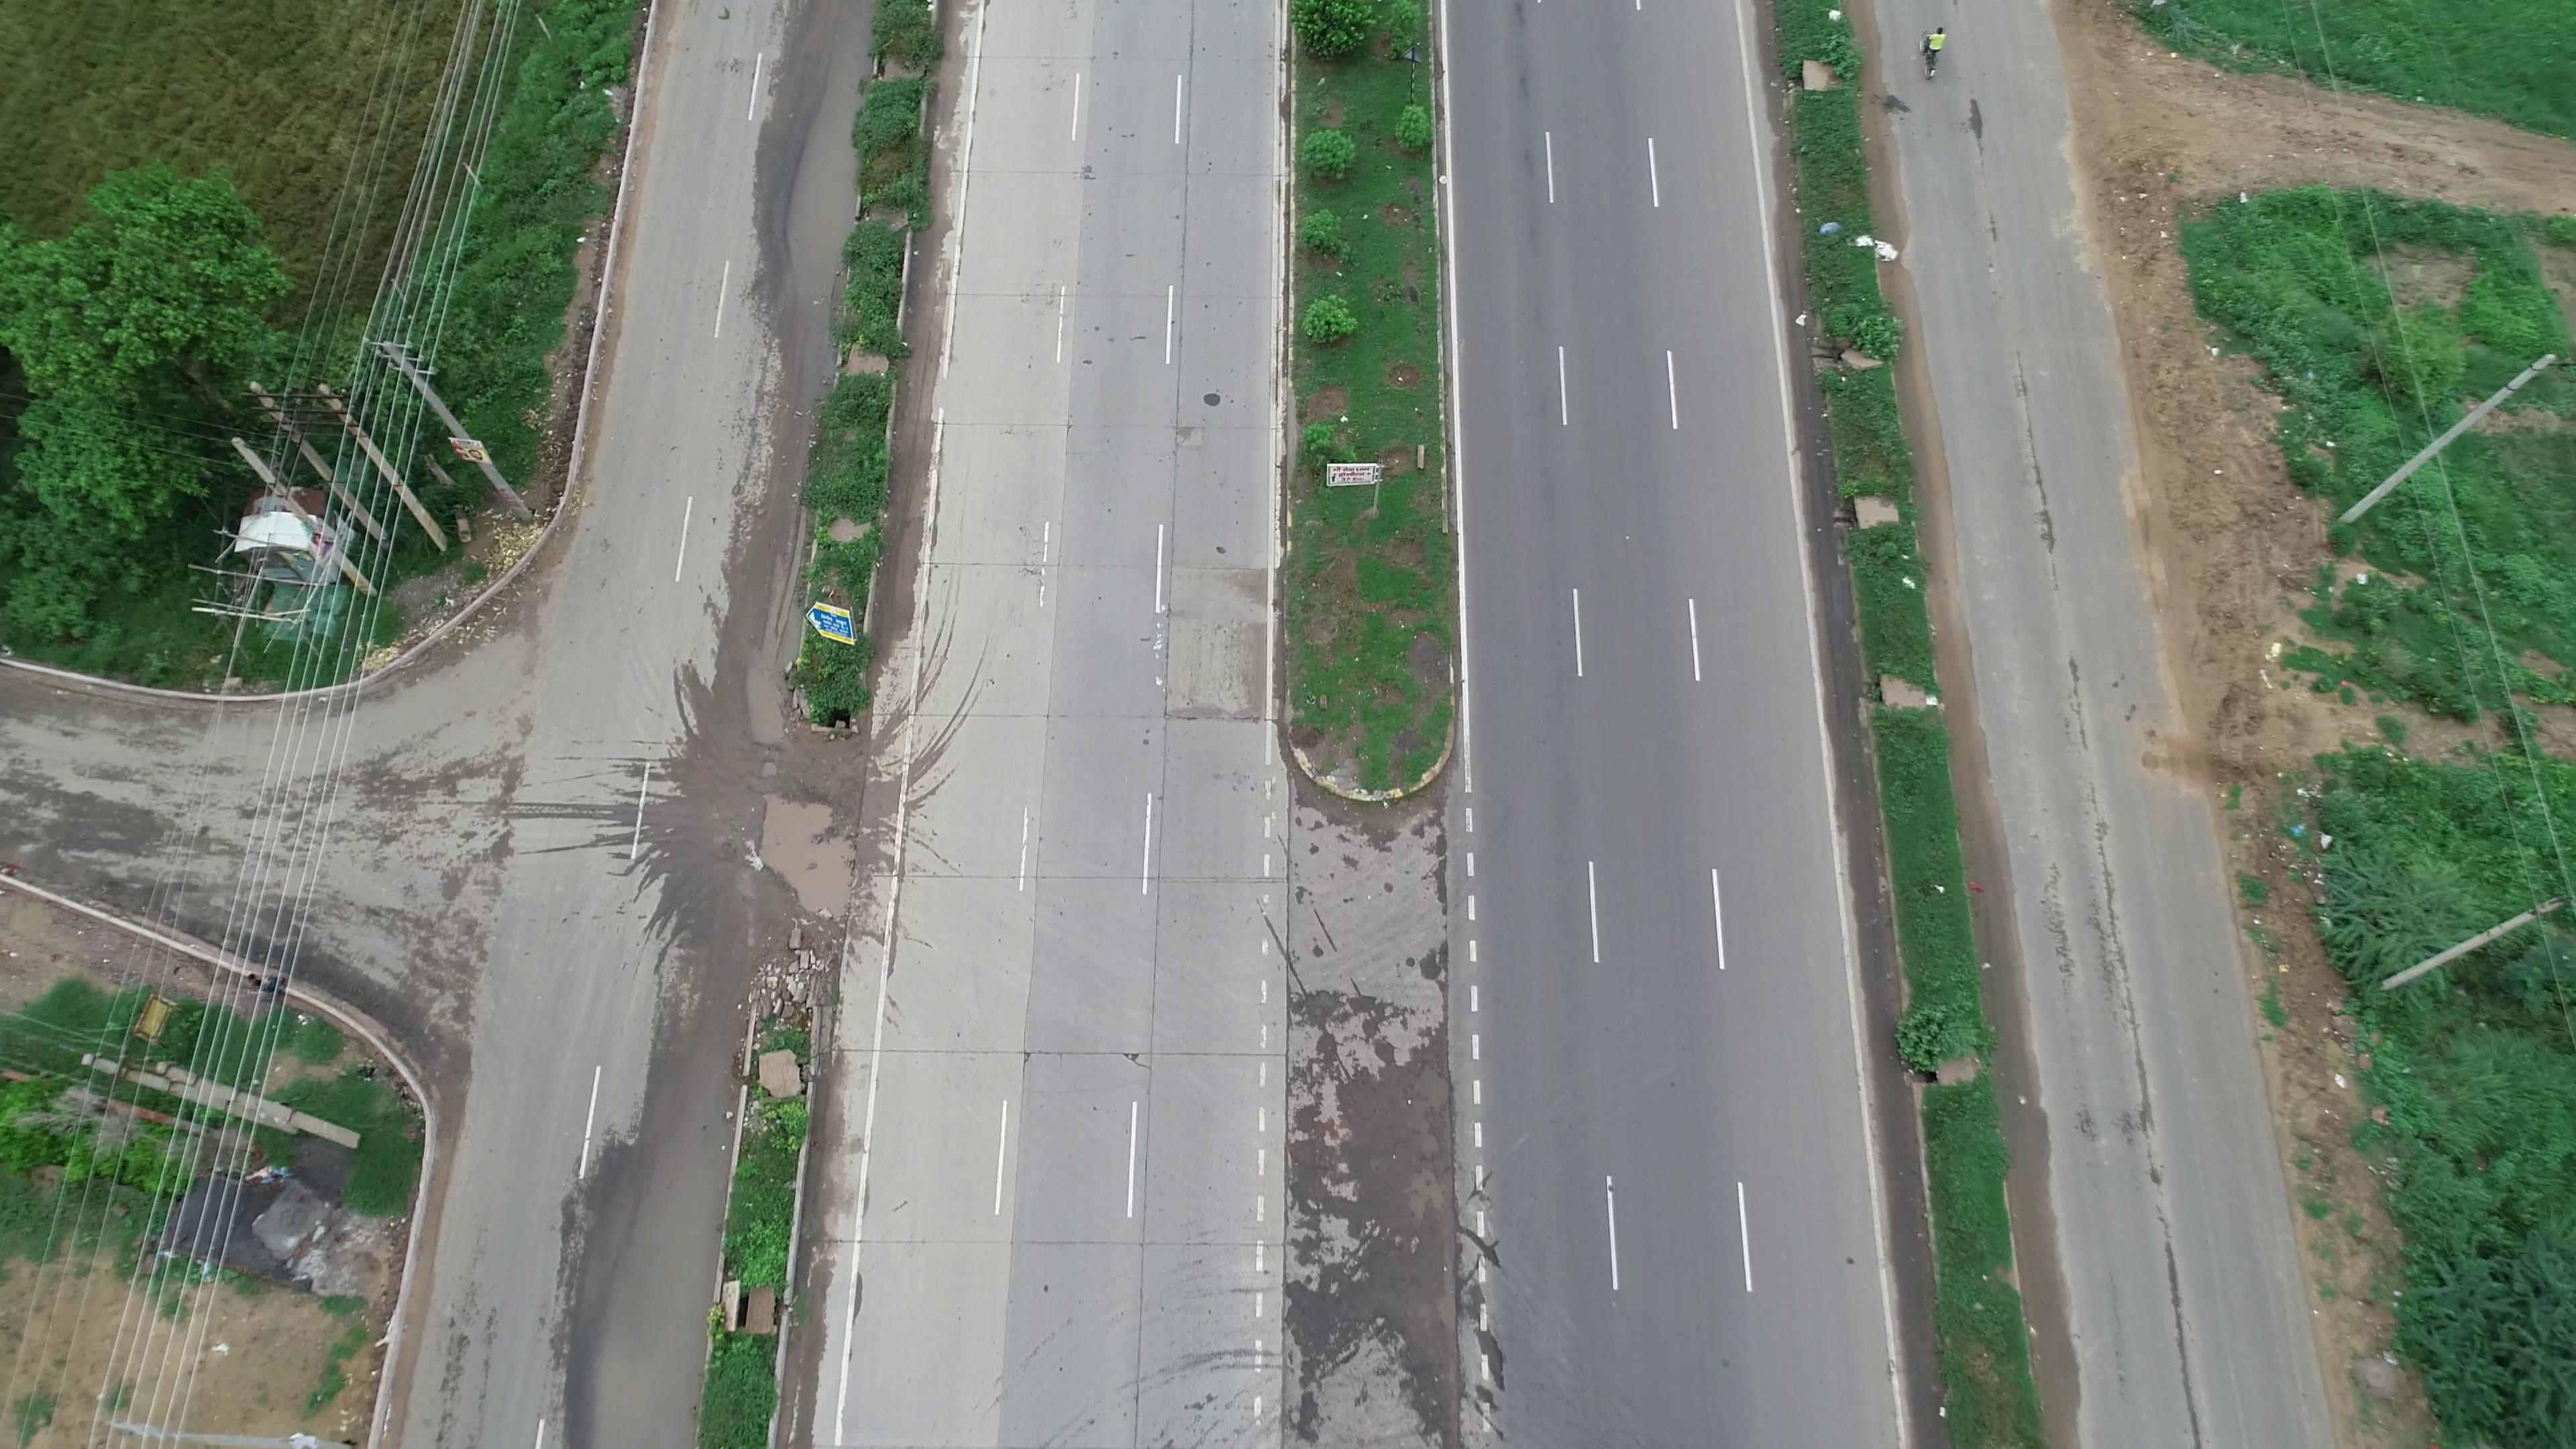Longitudinal_cracks: (2097, 879, 2204, 1440), (2008, 357, 2097, 738)
Waterlogging: (568, 1111, 711, 1444)
